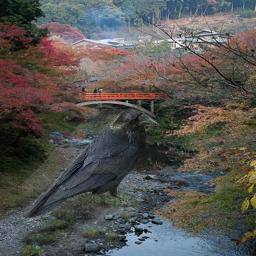Crow: (22, 109, 160, 220)
